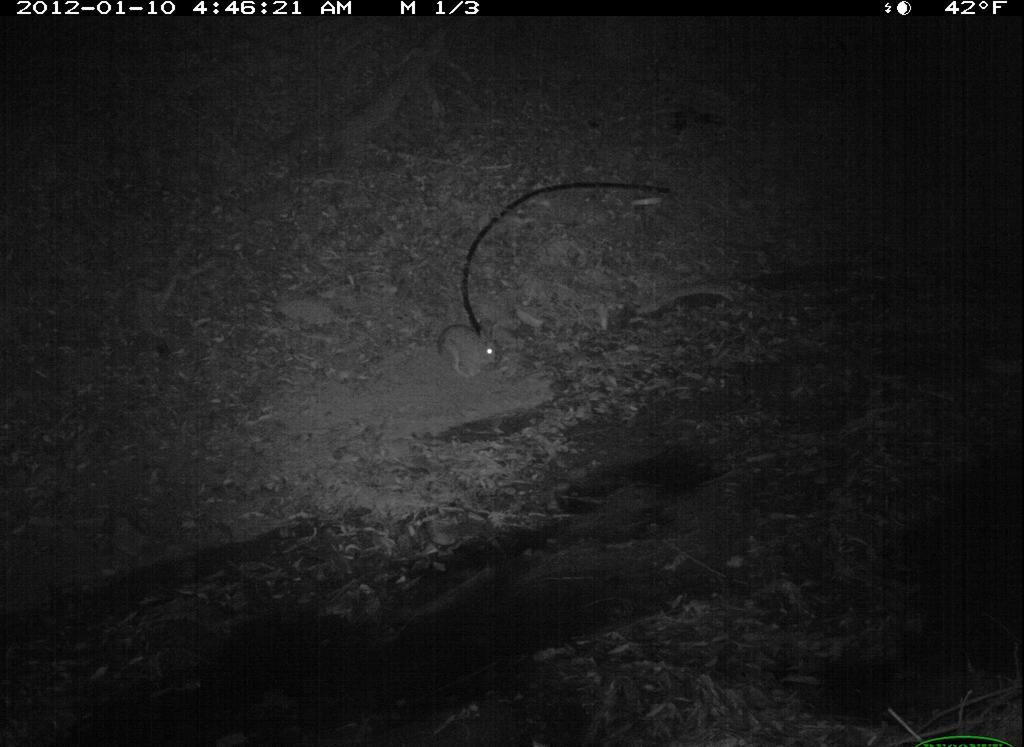rabbit: (434, 313, 506, 383)
